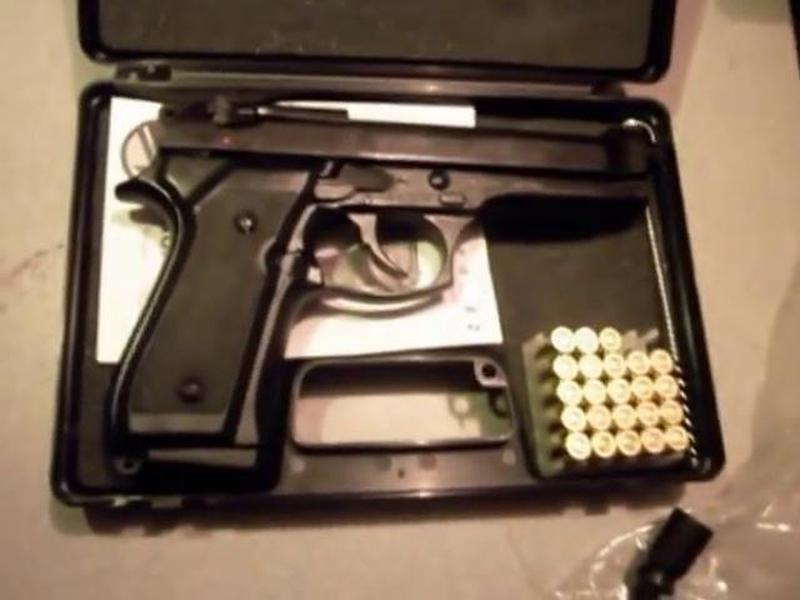Pistola: (103, 83, 648, 441)
